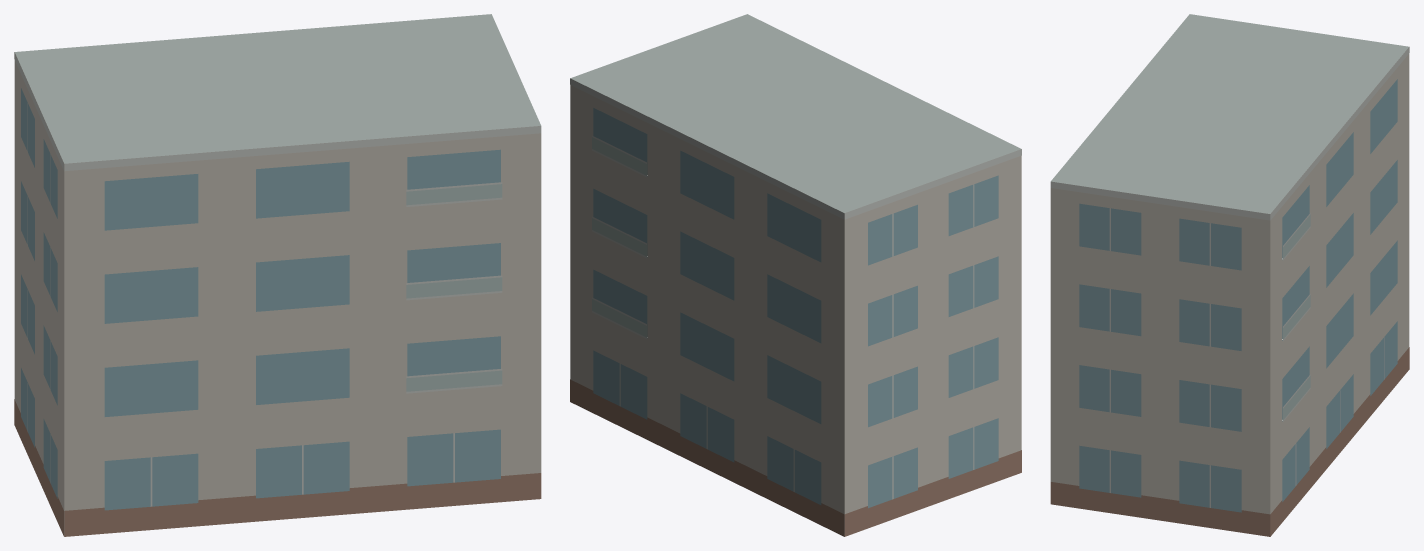
File: residential-eb4b552e-a1d1-4533-921d-27171203d066.glb
3 views of the same model, side by side, from view 1: azimuth 30°, elevation 25°; view 2: azimuth 150°, elevation 25°; view 3: azimuth 270°, elevation 25° (orthographic). The views are drawn at different scales.
Parts seen in each view (by area): view 1: residential-eb4b552e-a1d1-4533-921d-27171203d066.tmp; view 2: residential-eb4b552e-a1d1-4533-921d-27171203d066.tmp; view 3: residential-eb4b552e-a1d1-4533-921d-27171203d066.tmp.
Part boxes in pixels (x1,y1,x2,y2): residential-eb4b552e-a1d1-4533-921d-27171203d066.tmp: (14,14,541,536); residential-eb4b552e-a1d1-4533-921d-27171203d066.tmp: (570,14,1021,536); residential-eb4b552e-a1d1-4533-921d-27171203d066.tmp: (1050,14,1409,536).
Size of the model in its own units: 16.23 by 12.2 by 12.3.
